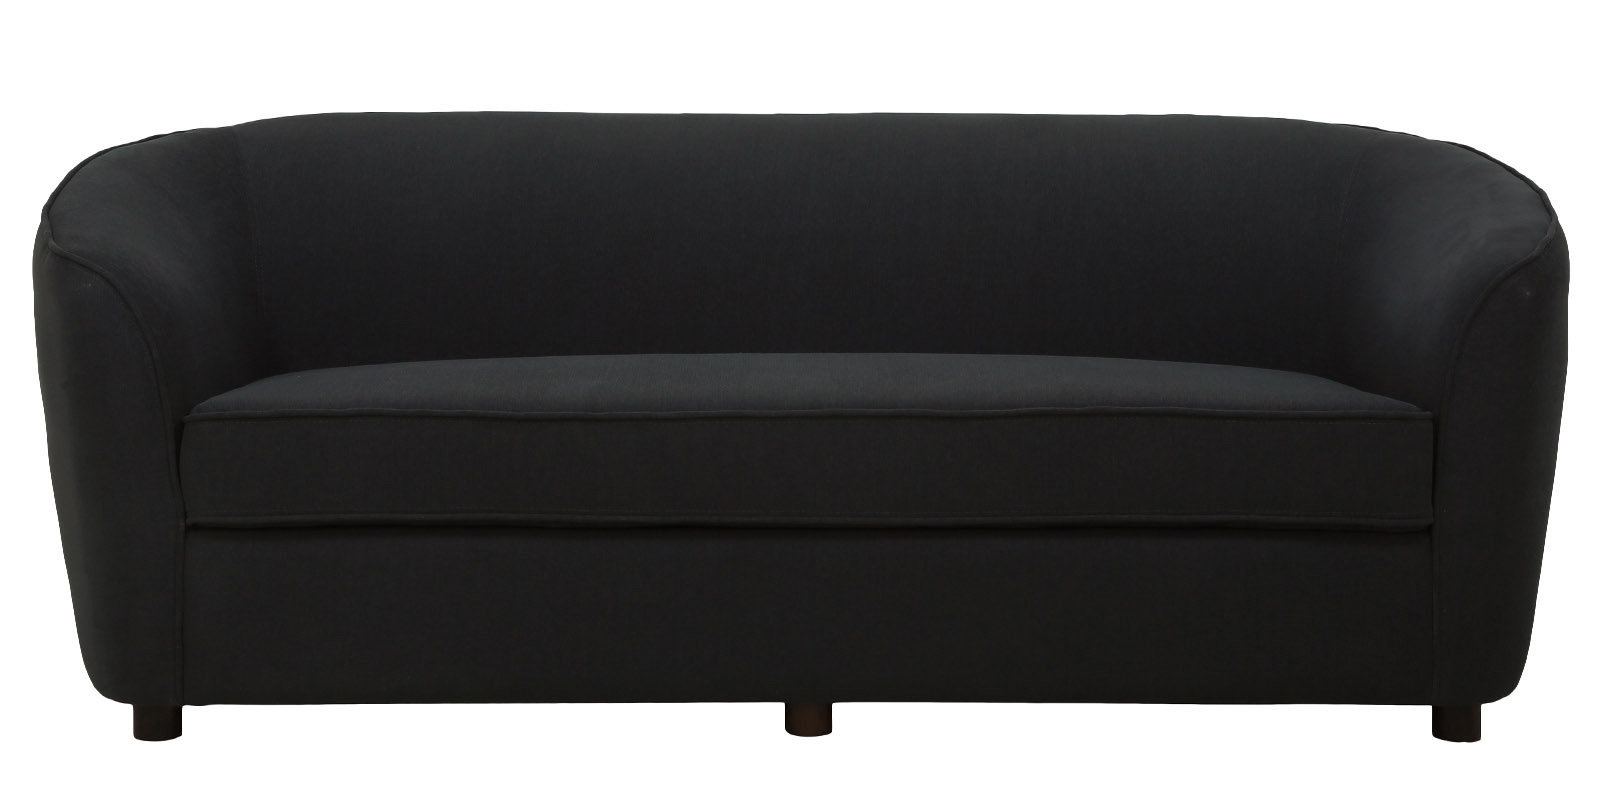Mamore Three Seater Sofa in Charcoal Grey Color by CasaCraft: (30, 111, 1572, 742)
